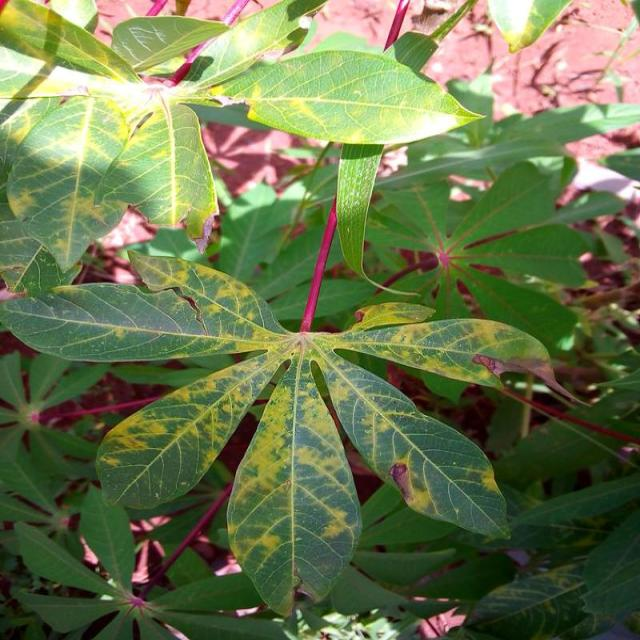cassava leaf: (3, 178, 578, 617), (226, 348, 364, 618), (217, 42, 487, 147), (8, 92, 130, 272), (97, 95, 221, 254)
